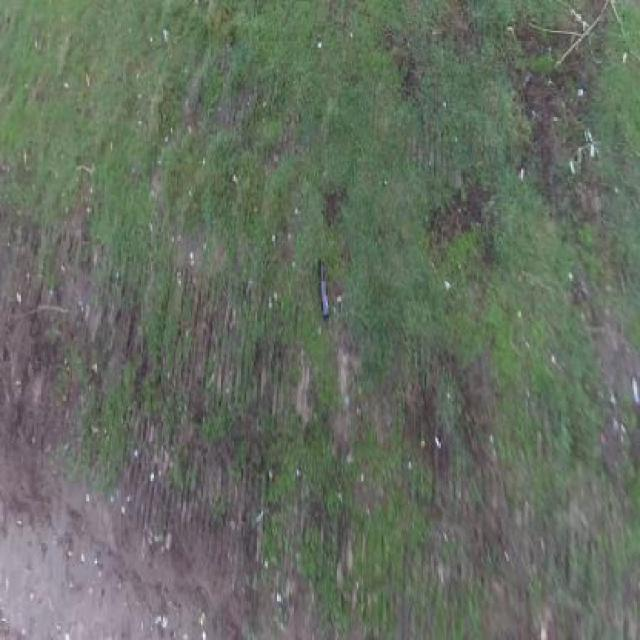Garbage: (319, 259, 331, 317)
